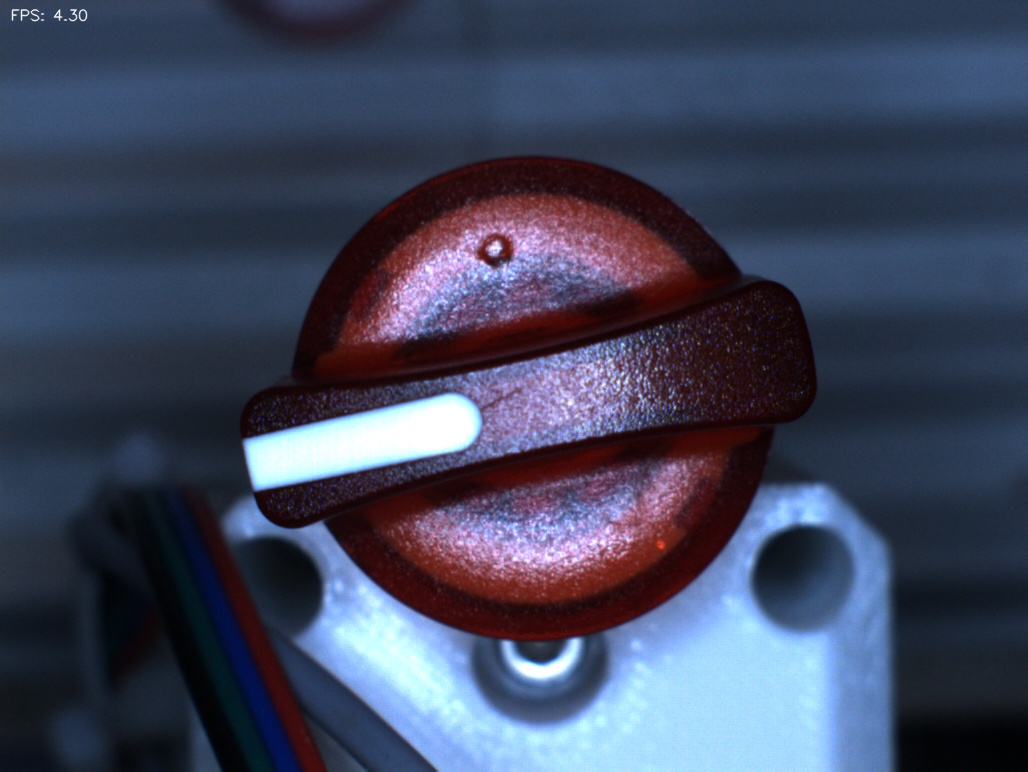Choc: (445, 209, 525, 289)
